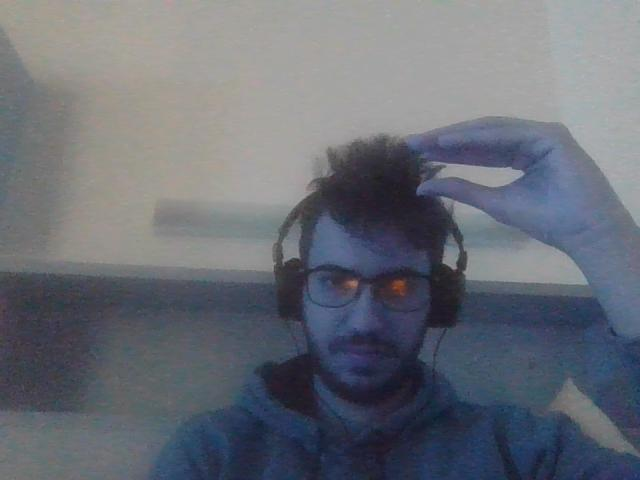no: (406, 110, 612, 243)
